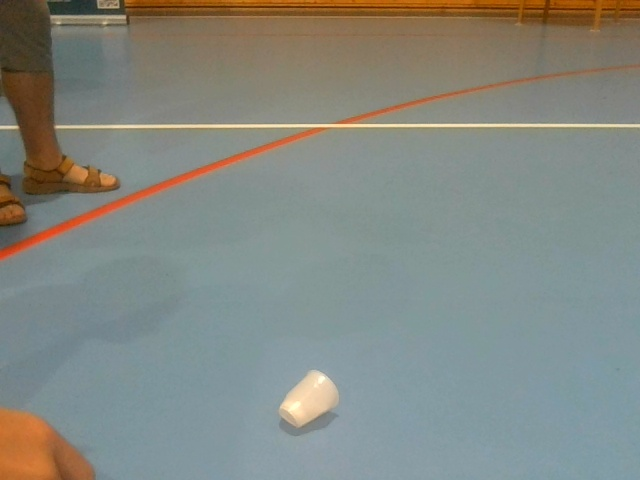plasticcup: (278, 368, 341, 429)
